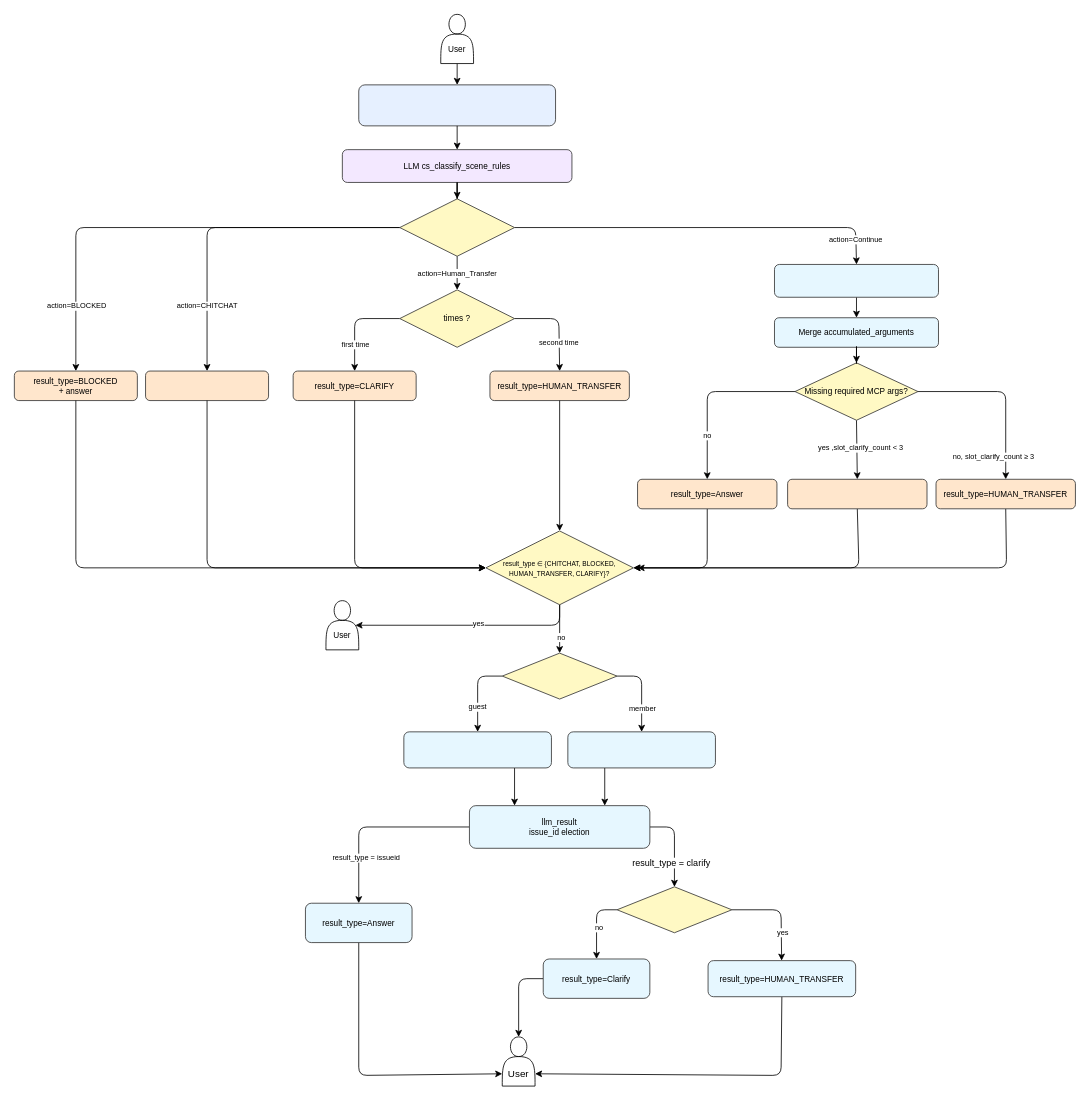
The diagram is 1090 pixels wide and 1100 high, and some of its shapes have lost their labels. Here are the shapes that lost their labels. From the top down, the centre of each, then its label:
pixel 457 105: Latest User Query + History QA
pixel 457 227: action?
pixel 856 280: Guest → need_tool_call=false (classify stage)
pixel 207 385: result_type=CHITCHAT + answer
pixel 857 493: result_type=CLARIFY (slot)
pixel 559 675: is_guest_mode?
pixel 477 749: kb_only_retrieval
pixel 641 749: parallel_retrieval
pixel 674 909: clarify_count+1 ≥ 3?
